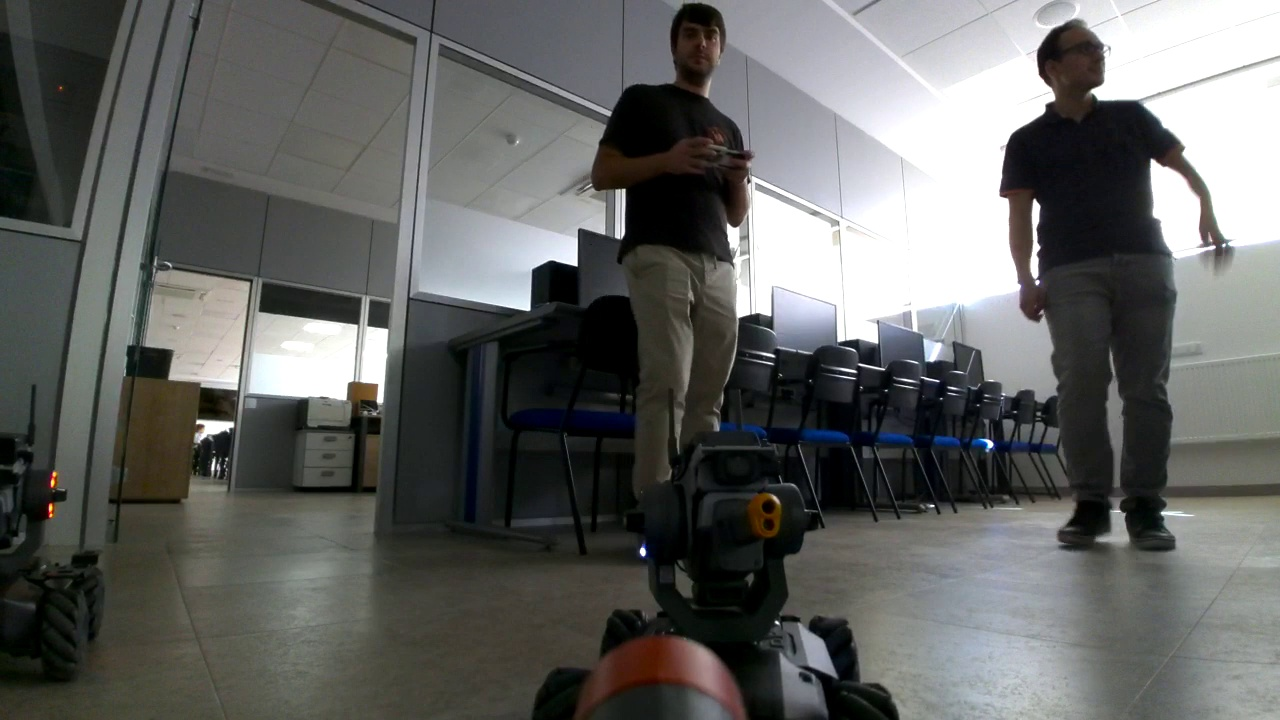robot: (539, 433, 898, 720)
